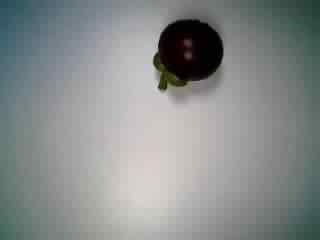mangosteen: (150, 16, 227, 95)
